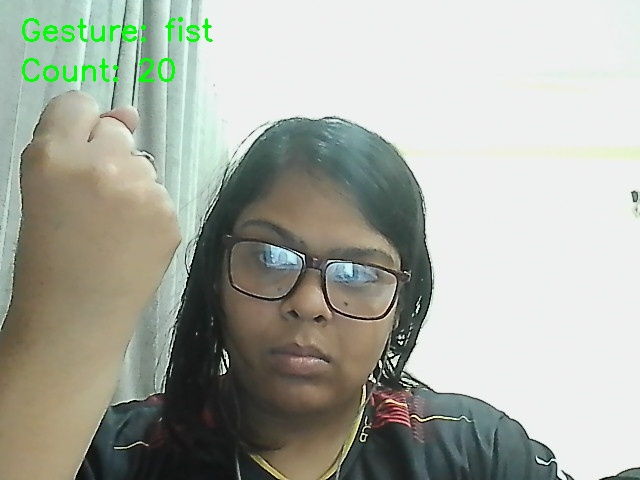fist: (17, 87, 197, 360)
